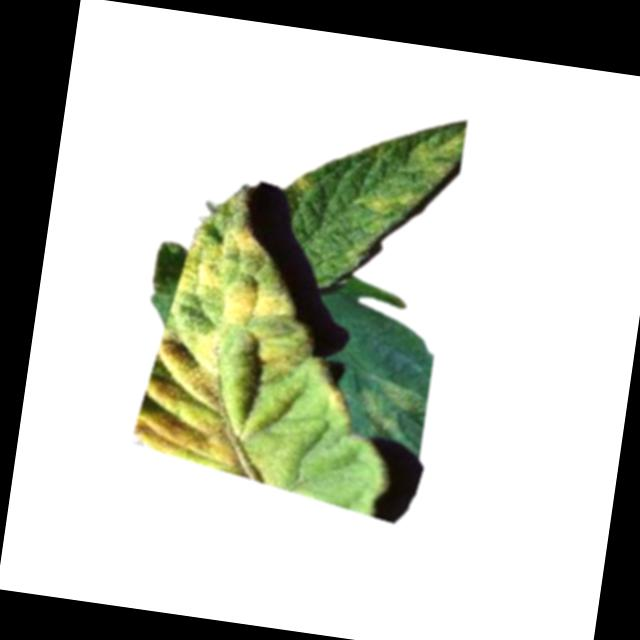Leaf_Mold: (127, 212, 371, 492), (356, 180, 422, 220)
